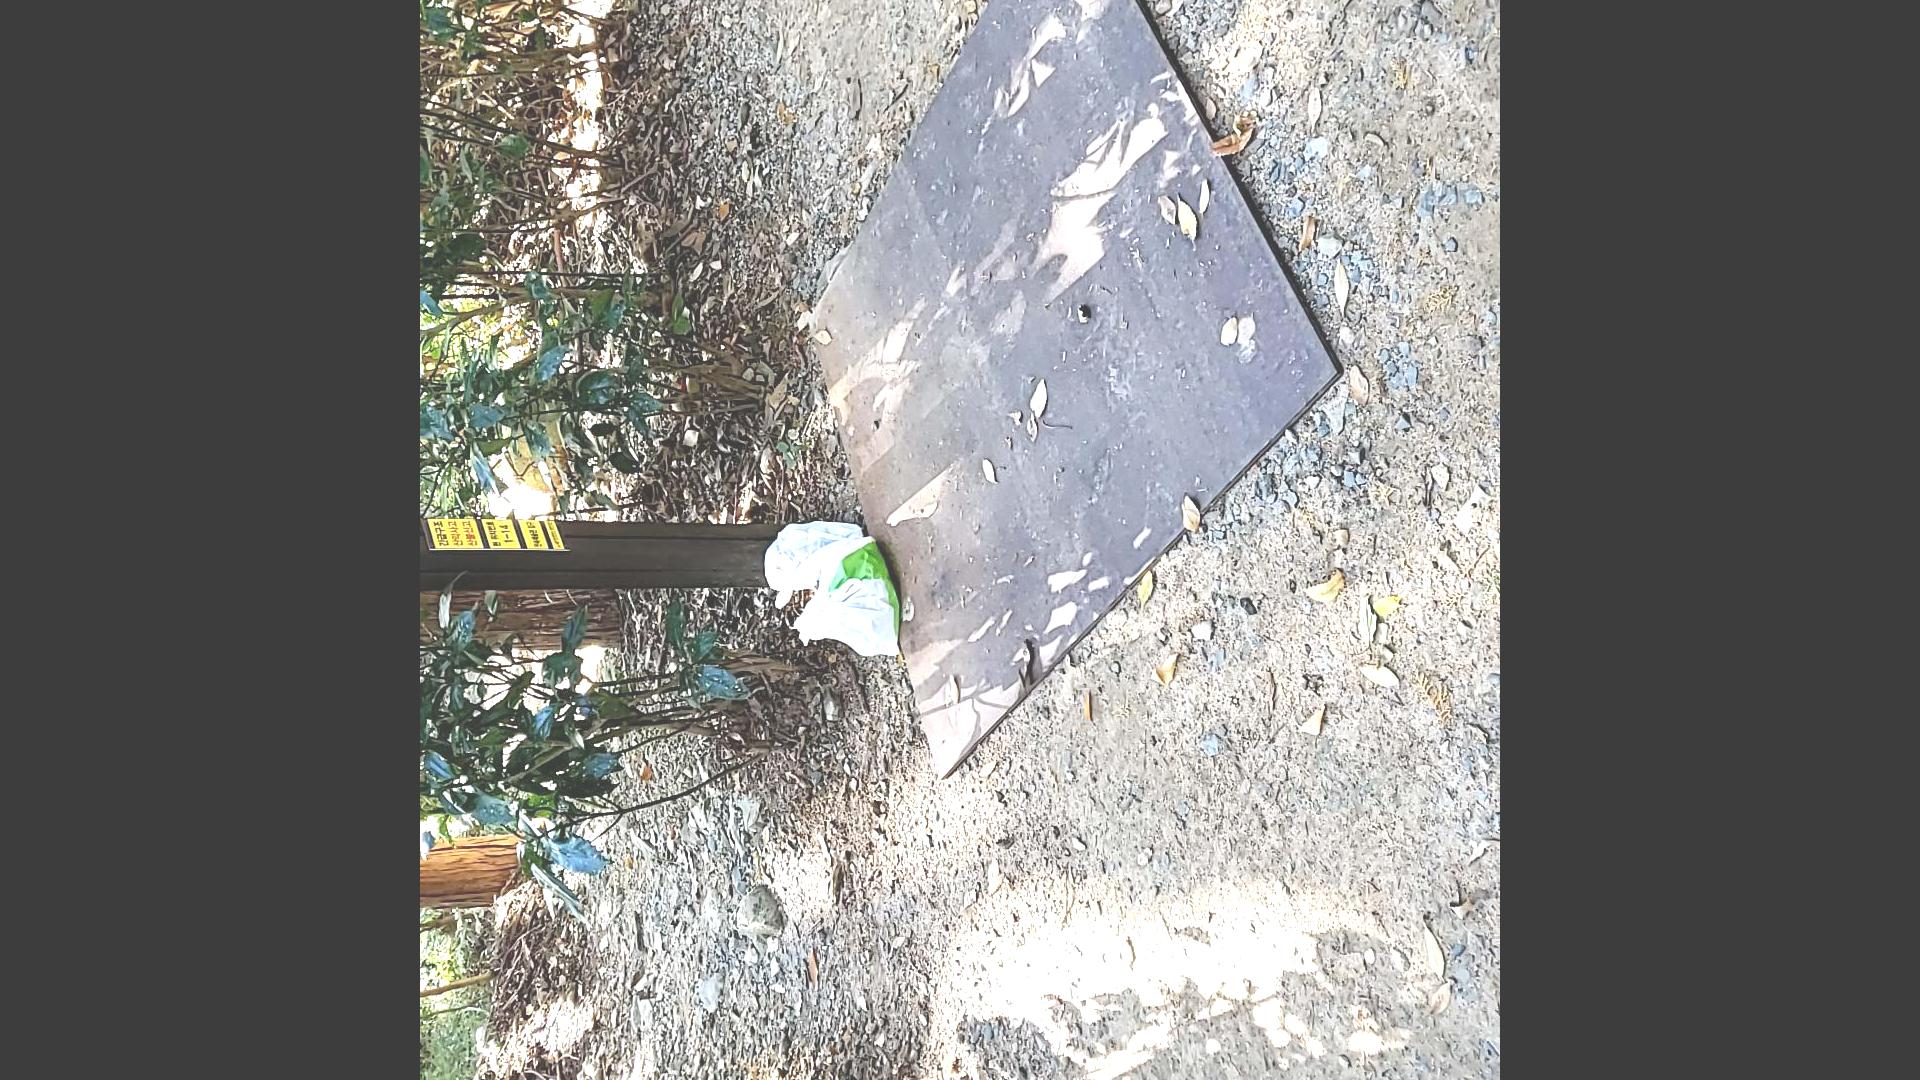white_bag: (789, 531, 915, 673), (761, 514, 866, 611)
